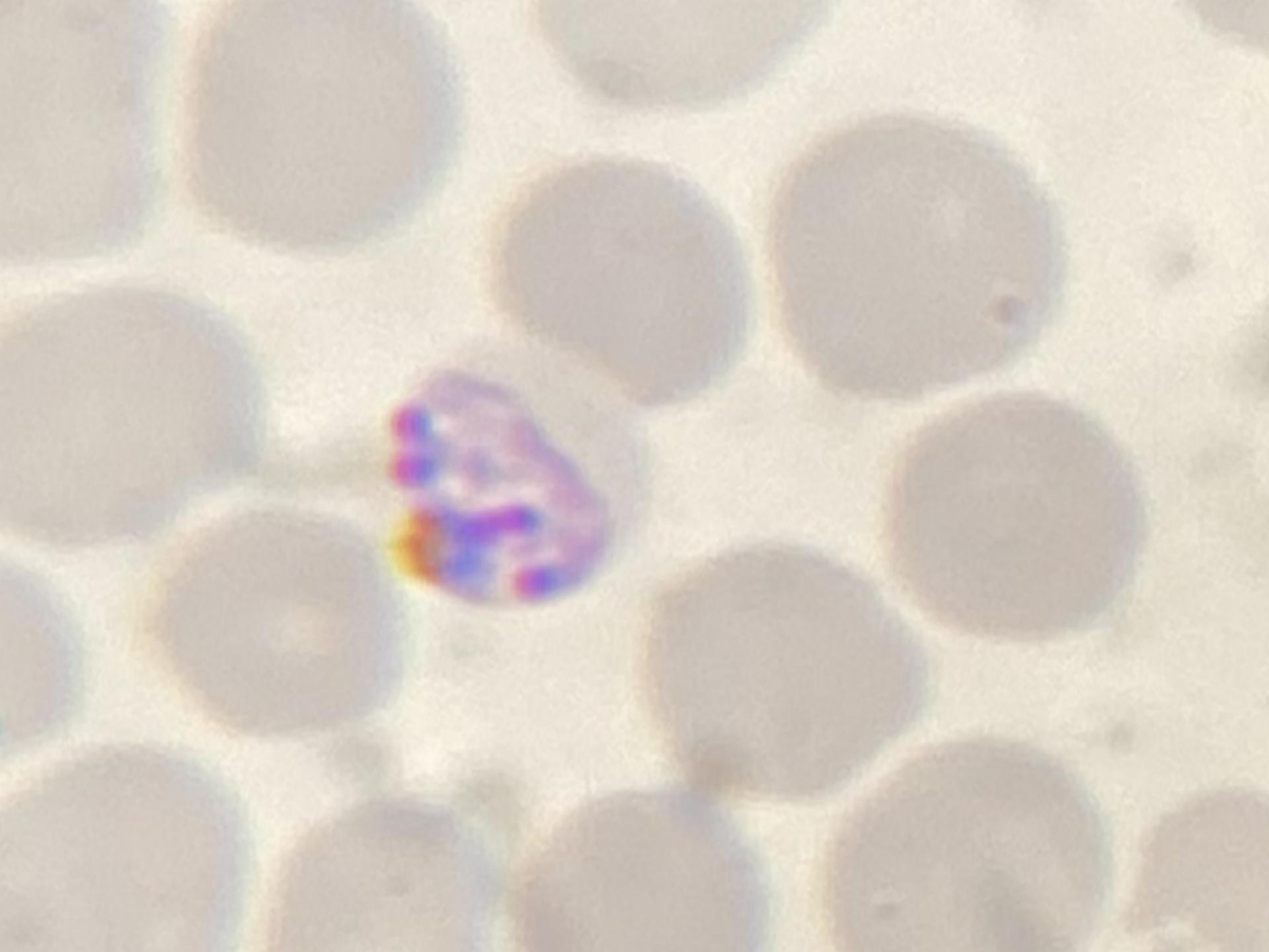Infected: (364, 333, 661, 613)
Uninfected: (762, 109, 1081, 417), (0, 289, 295, 603), (476, 157, 767, 420), (178, 3, 460, 274), (815, 721, 1140, 952), (628, 540, 919, 789), (890, 380, 1143, 660), (148, 514, 407, 739), (0, 745, 256, 952), (502, 783, 765, 952), (264, 802, 496, 952)
